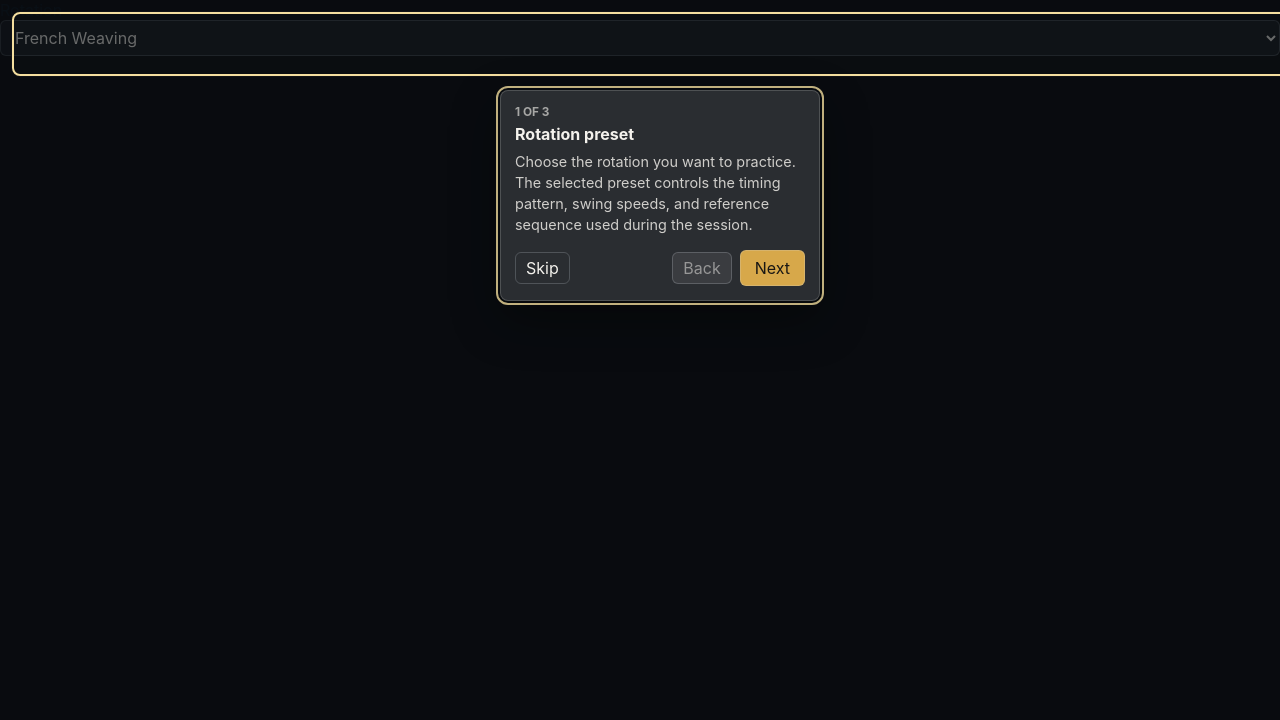
WalkthroughTour › moves forward and backward through the steps
Click the button "Next".
click(772, 268)  # box x1=740 y1=250 x2=805 y2=286
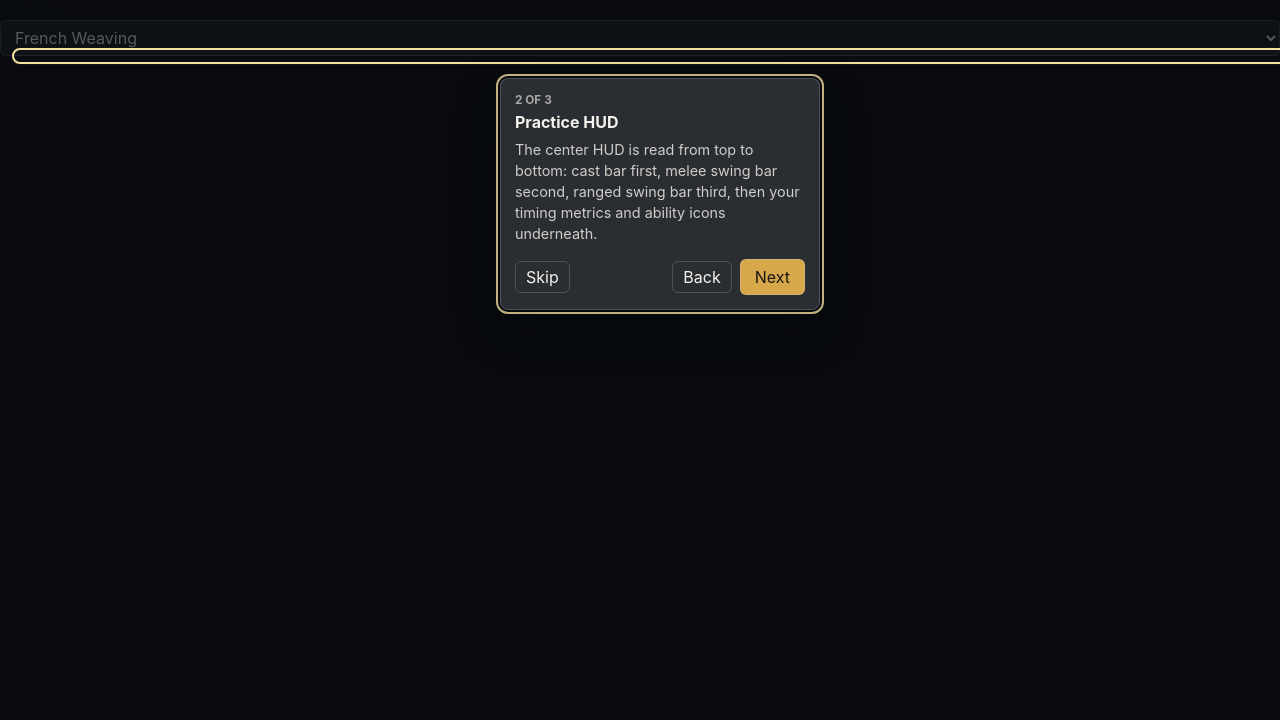
Now the dialog "Practice HUD" is shown, box x1=500 y1=78 x2=820 y2=310
Now the text "2 of 3" is shown, box x1=515 y1=93 x2=552 y2=107
Now the text "read from top to bottom: cast bar first" is shown, box x1=515 y1=141 x2=800 y2=242
Click the button "Back".
click(702, 277)  # box x1=672 y1=261 x2=732 y2=293
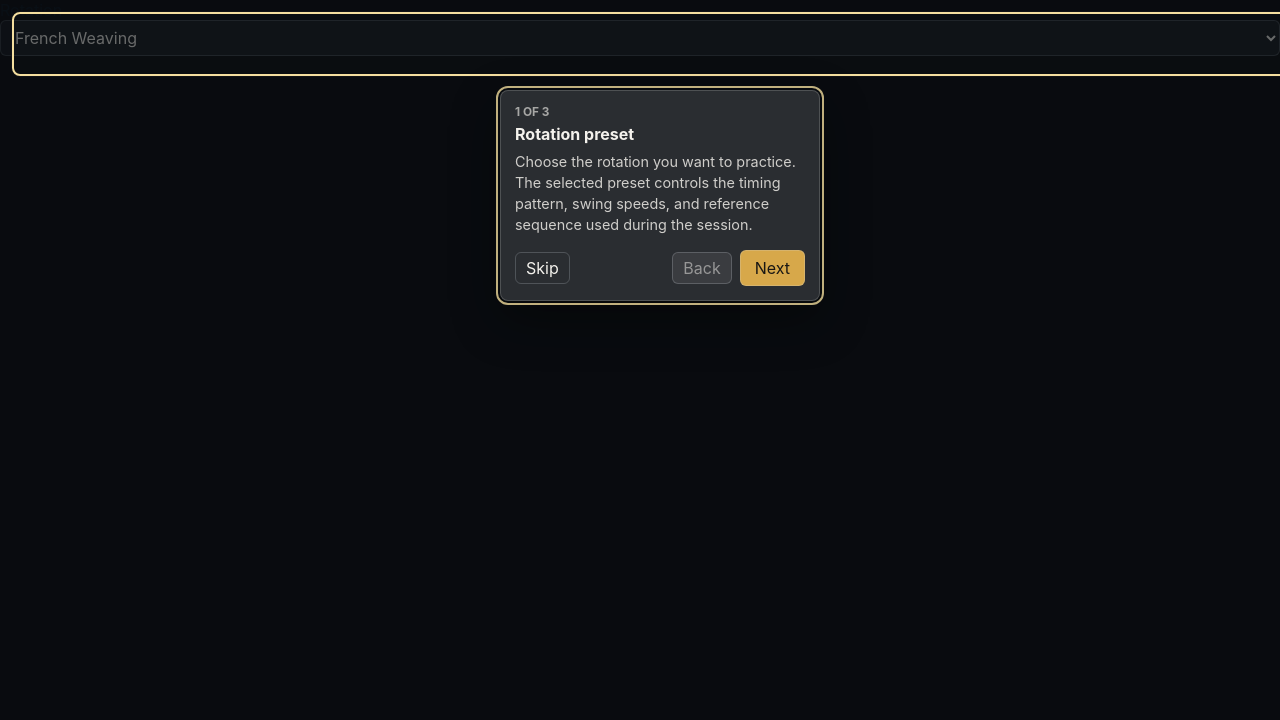
Now the dialog "Rotation preset" is shown, box x1=500 y1=90 x2=820 y2=301
Now the text "1 of 3" is shown, box x1=515 y1=105 x2=549 y2=119
